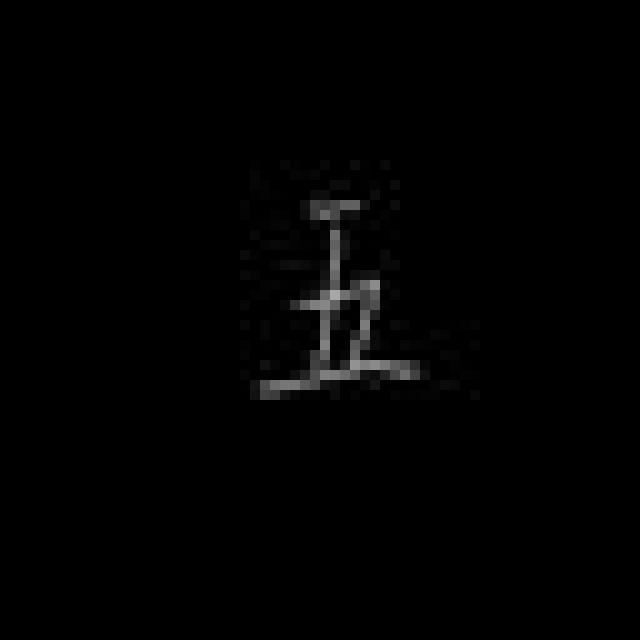5 -five-: (243, 174, 428, 404)
